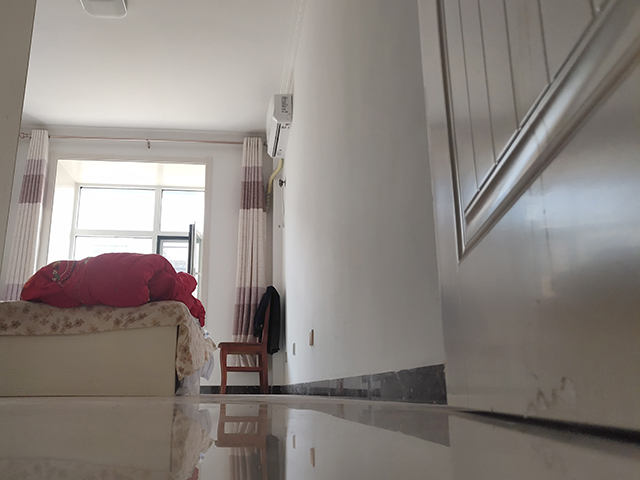bed: (1, 298, 217, 399)
curtain: (3, 128, 52, 301), (231, 133, 267, 367)
stool: (217, 296, 272, 397)
